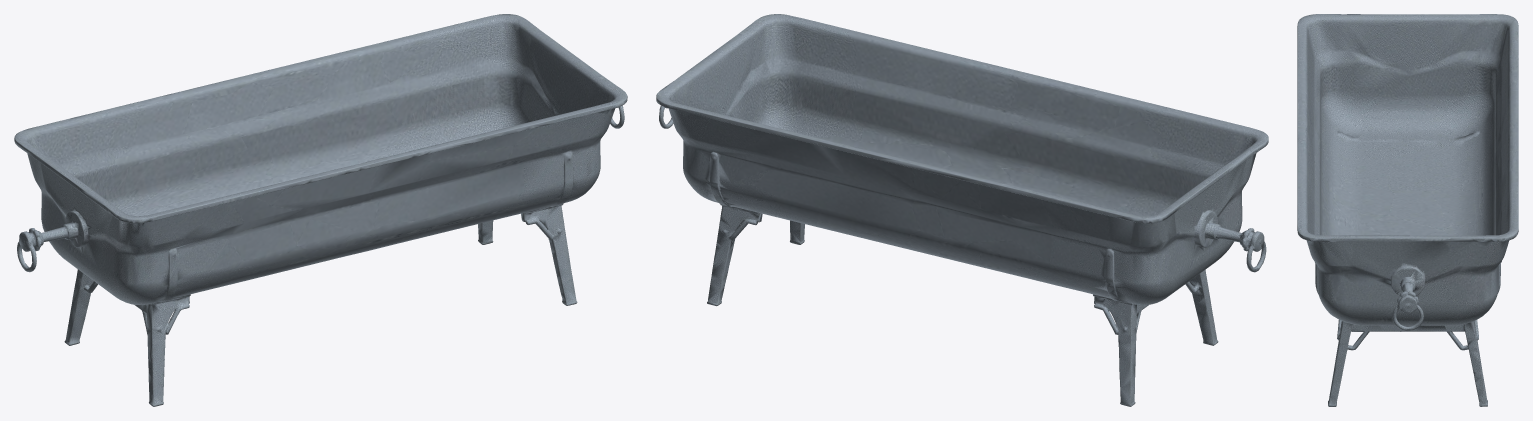
Rendered from water-trough.glb.
3 renders of one model, left to right at view 1: azimuth 30°, elevation 25°; view 2: azimuth 150°, elevation 25°; view 3: azimuth 270°, elevation 25°, orthographic. The views are drawn at different scales.
Bounding box in the file's own units: 1.91 × 0.6334 × 0.6776.
Materials: 1 (1 with a texture image).
